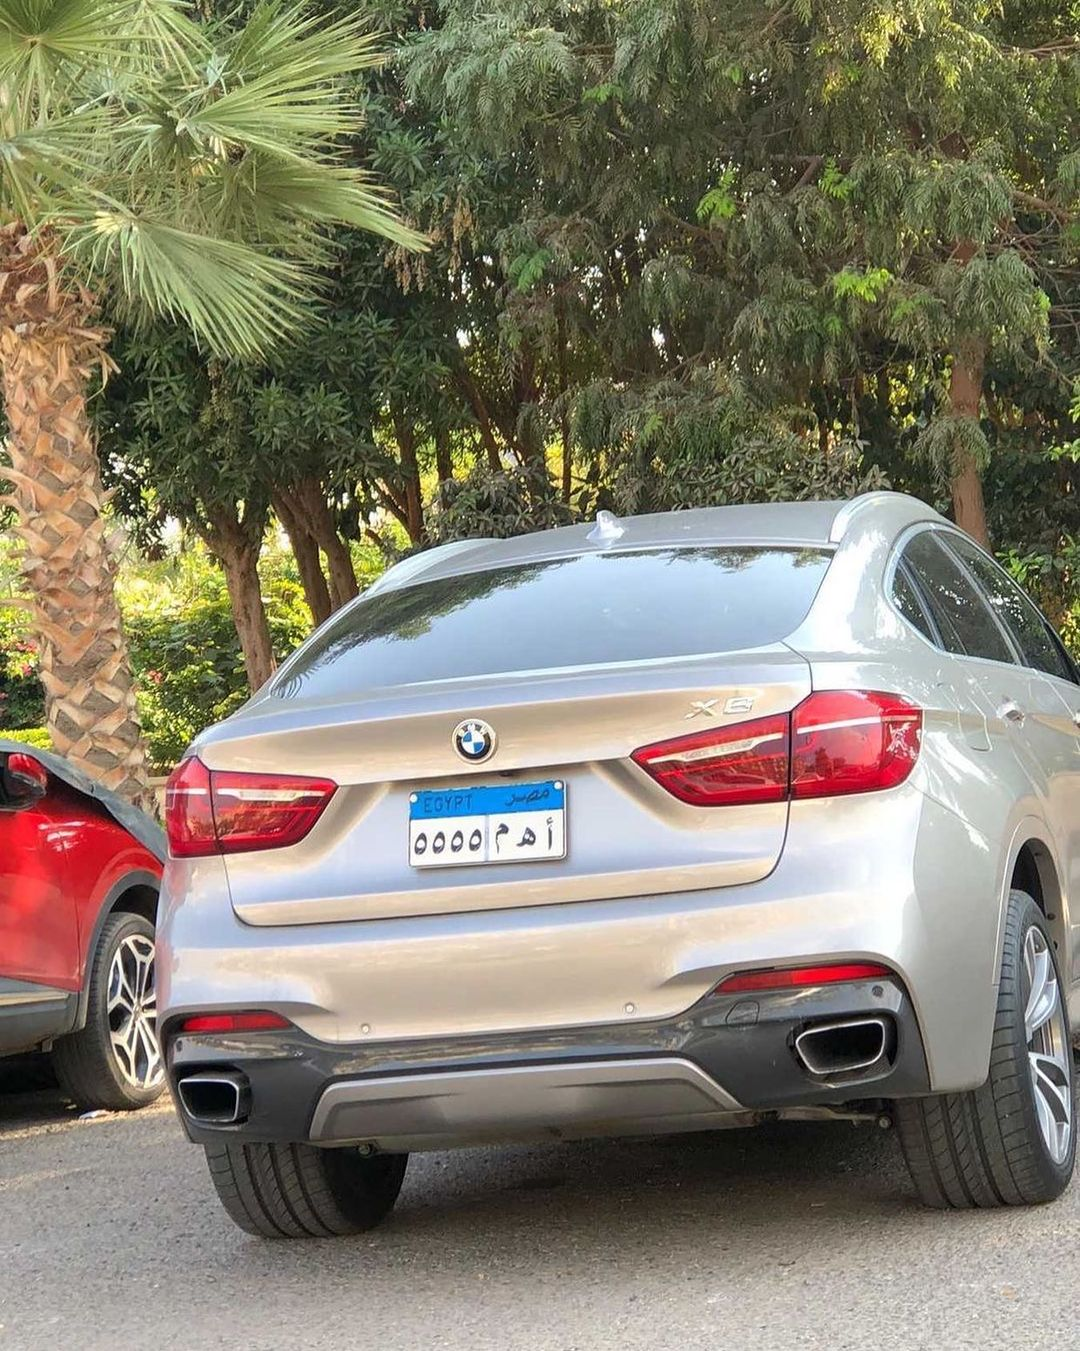carpl: (400, 786, 571, 866)
